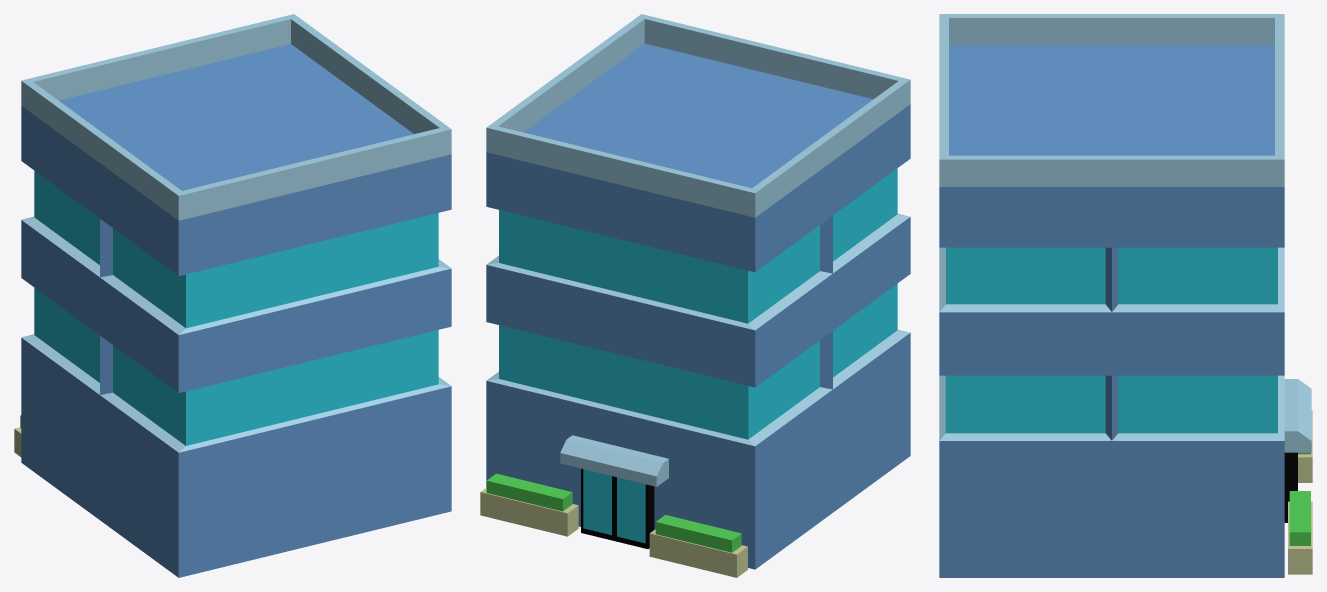
Rendered from OfficeBuilding02.fbx.
3 renders of one model, left to right at view 1: azimuth 30°, elevation 25°; view 2: azimuth 150°, elevation 25°; view 3: azimuth 270°, elevation 25°, orthographic. The views are drawn at different scales.
Visible parts, largest first — view 1: Cube; view 2: Cube; view 3: Cube.
Boxes of the visible parts, <box> form: Cube: <box>14,14,451,577</box>; Cube: <box>480,14,910,577</box>; Cube: <box>939,14,1312,577</box>.
Bounding box in the file's own units: 800 × 1071 × 865.
